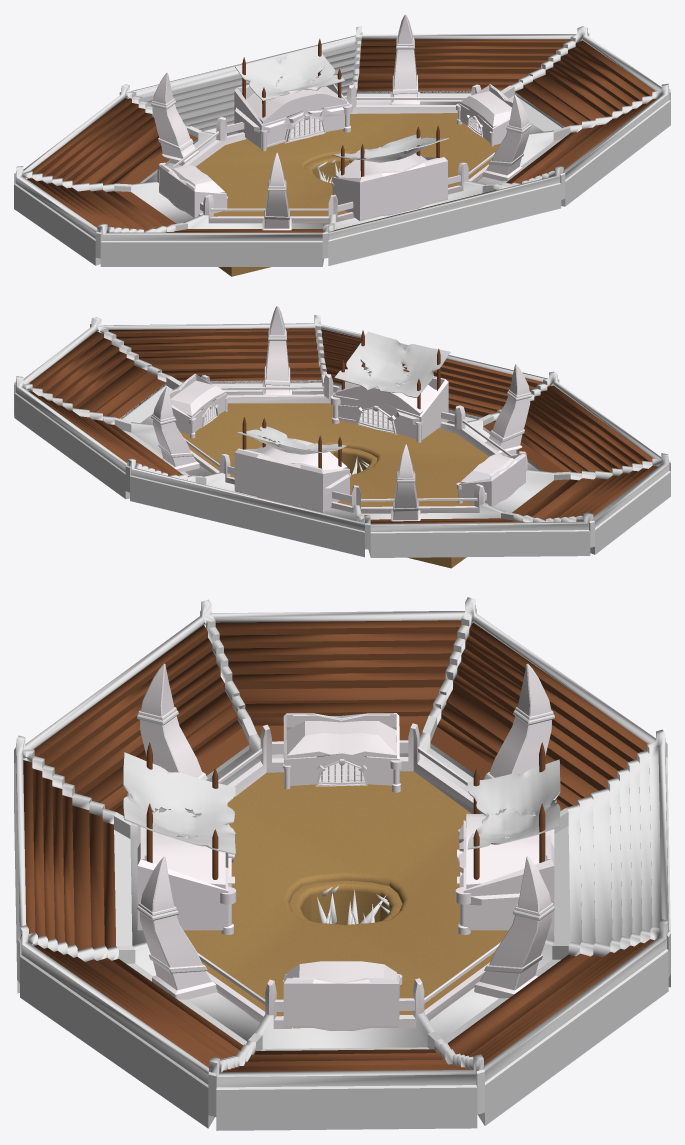
The model's file is pallo_ring_tende.fbx.
3 views of the same model, one above another, from view 1: azimuth 30°, elevation 25°; view 2: azimuth 150°, elevation 25°; view 3: azimuth 270°, elevation 25° (orthographic). The views are drawn at different scales.
Parts seen in each view (by area): view 1: Spalti, Spalti.002, Plane, PunteOssa, Gabbia1, Gabbia2, Spalti.001, Flag1.001, GabbiaSmall2, GabbiaSmall1, Flag1, Paletti1 (+1 smaller); view 2: Spalti, Spalti.002, Plane, PunteOssa, Gabbia2, Spalti.001, Gabbia1, Flag1, GabbiaSmall1, GabbiaSmall2, Flag1.001, Paletti2 (+1 smaller); view 3: Spalti, Spalti.002, Plane, PunteOssa, GabbiaSmall2, GabbiaSmall1, Spalti.001, Flag1, Gabbia2, Gabbia1, Flag1.001, Paletti2 (+2 smaller).
Boxes of the visible parts, x1,y1,x2,y2 form: Spalti: (14, 26, 670, 266); Spalti.002: (27, 39, 656, 232); Plane: (196, 113, 500, 276); PunteOssa: (151, 14, 531, 230); Gabbia1: (331, 153, 447, 221); Gabbia2: (234, 69, 352, 151); Spalti.001: (157, 84, 494, 223); Flag1.001: (235, 46, 344, 100); GabbiaSmall2: (159, 164, 227, 217); GabbiaSmall1: (456, 84, 512, 146); Flag1: (332, 135, 448, 162); Paletti1: (341, 125, 439, 176); Spalti: (14, 315, 670, 557); Spalti.002: (29, 328, 657, 523); Plane: (180, 403, 489, 568); PunteOssa: (151, 305, 532, 521); Gabbia2: (234, 438, 351, 512); Spalti.001: (184, 374, 527, 513); Gabbia1: (330, 365, 448, 442); Flag1: (334, 331, 450, 397); GabbiaSmall1: (169, 373, 228, 438); GabbiaSmall2: (456, 454, 525, 506); Flag1.001: (236, 426, 346, 454); Paletti2: (242, 417, 341, 468); Spalti: (14, 597, 670, 1130); Spalti.002: (23, 620, 653, 1072); Plane: (183, 771, 508, 1028); PunteOssa: (137, 663, 554, 999); GabbiaSmall2: (283, 713, 402, 792); GabbiaSmall1: (283, 961, 402, 1030); Spalti.001: (197, 723, 517, 1028); Flag1: (123, 752, 236, 854); Gabbia2: (455, 809, 554, 934); Gabbia1: (137, 808, 236, 934); Flag1.001: (467, 759, 560, 849); Paletti2: (473, 742, 545, 879).
Bounding box in the file's own units: 5256 × 973 × 3107.
